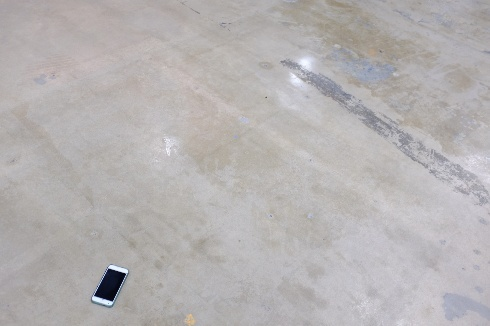phone: (88, 268, 137, 300)
